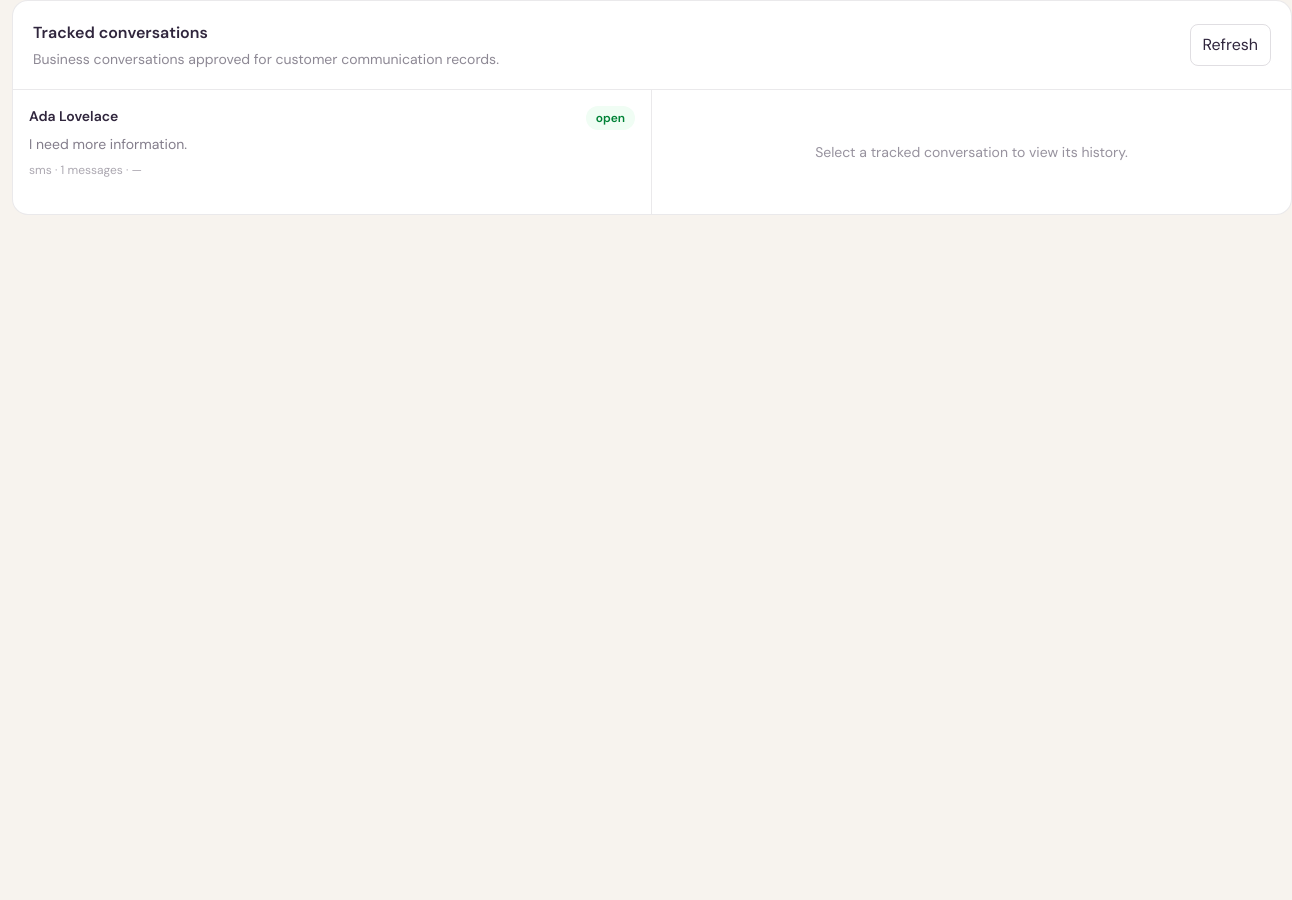
ConversationWorkspace replies › sends an SMS reply with a trimmed message
The image size is (1292, 900).
Click the button "Ada Lovelace".
click(74, 116)  # box [13,90,651,194]
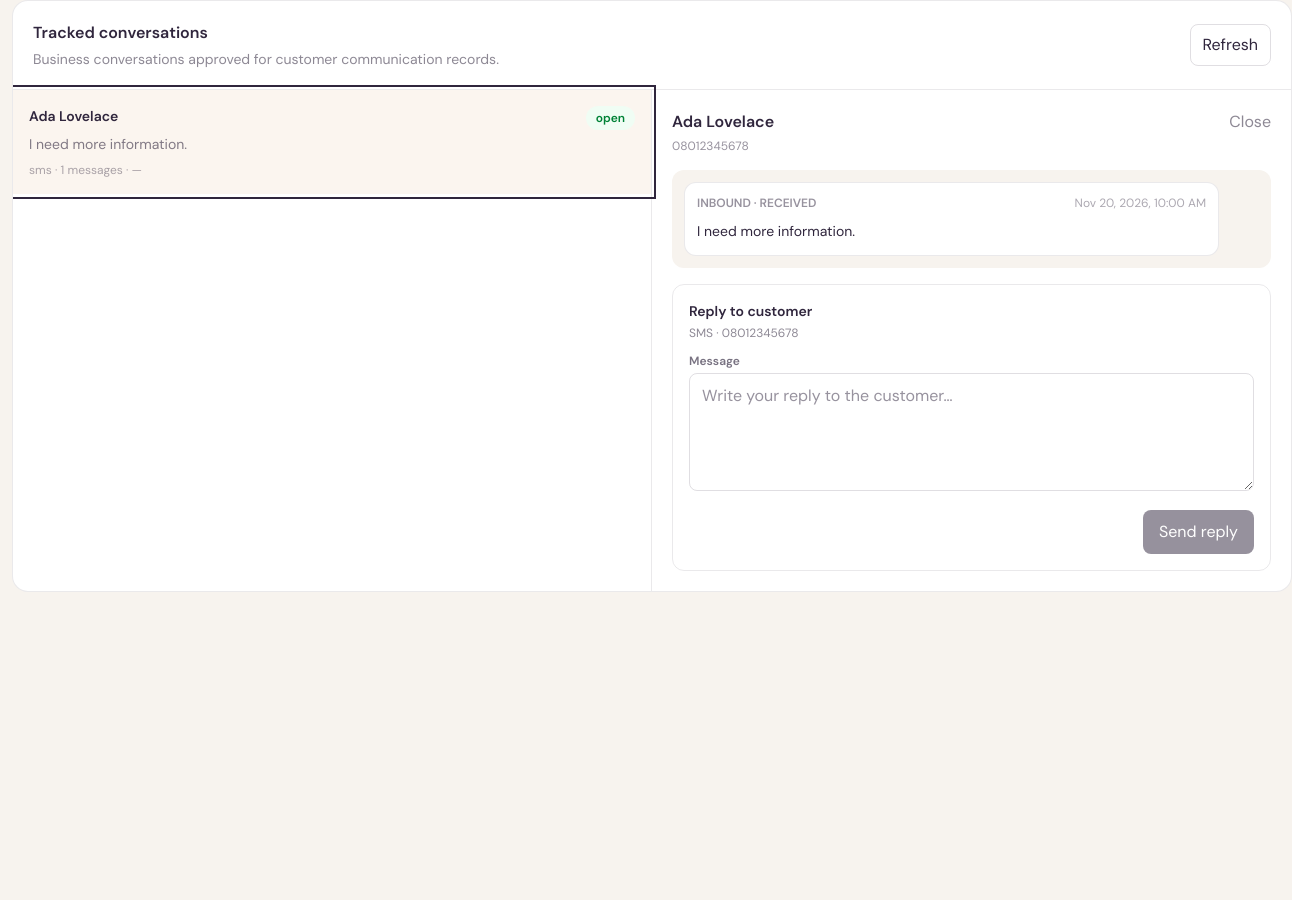
Expected: the heading "Reply to customer" is shown, [689,302,812,320]
Type "Thank you for contacting us." into the text box labelled "Message".
click(972, 432); type("Thank you for contacting us.")  # box [689,373,1254,491]
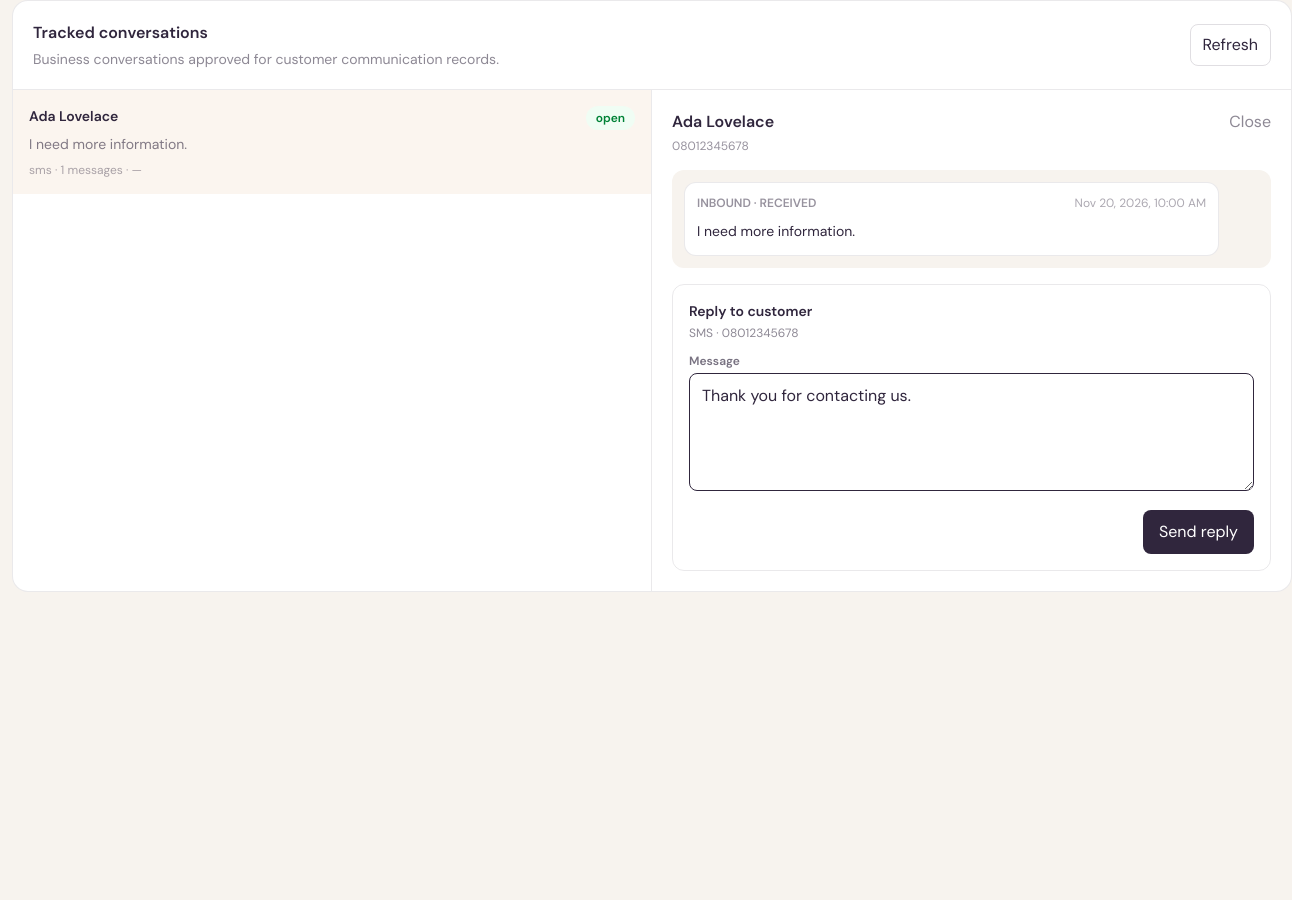
Click the button "Send reply".
click(1198, 532)  # box [1143,510,1254,554]
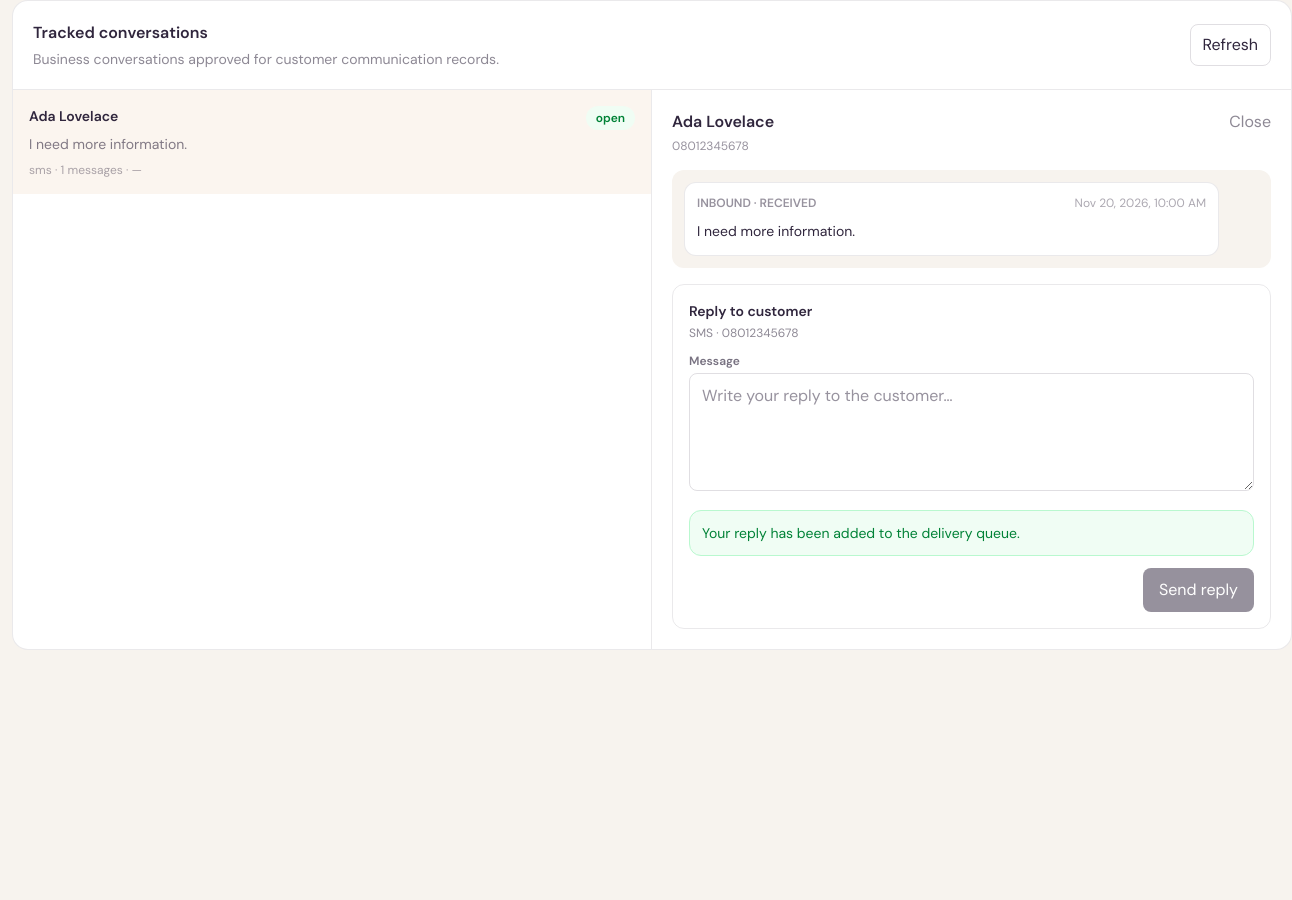
Expected: the message reads "Your reply has been added to the delivery queue.", [702,524,1020,542]
